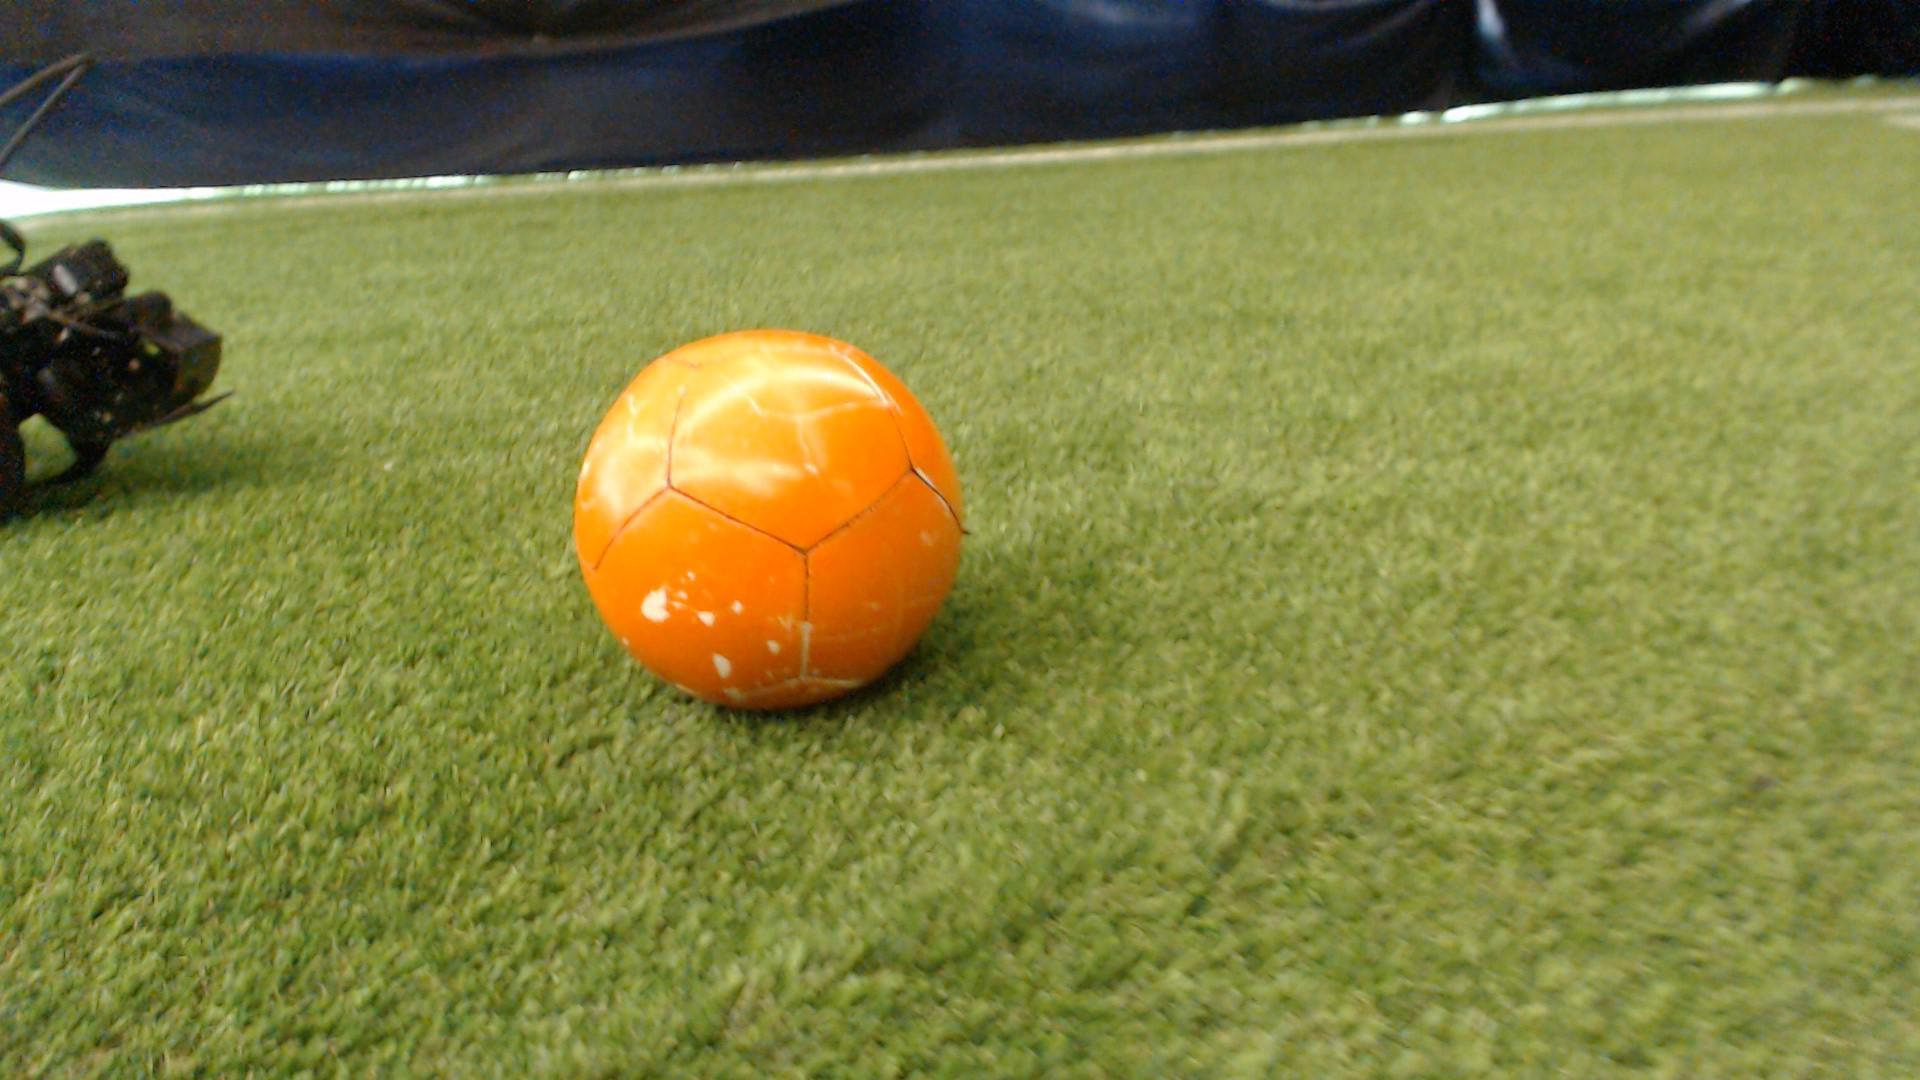bola: (549, 302, 1007, 737)
